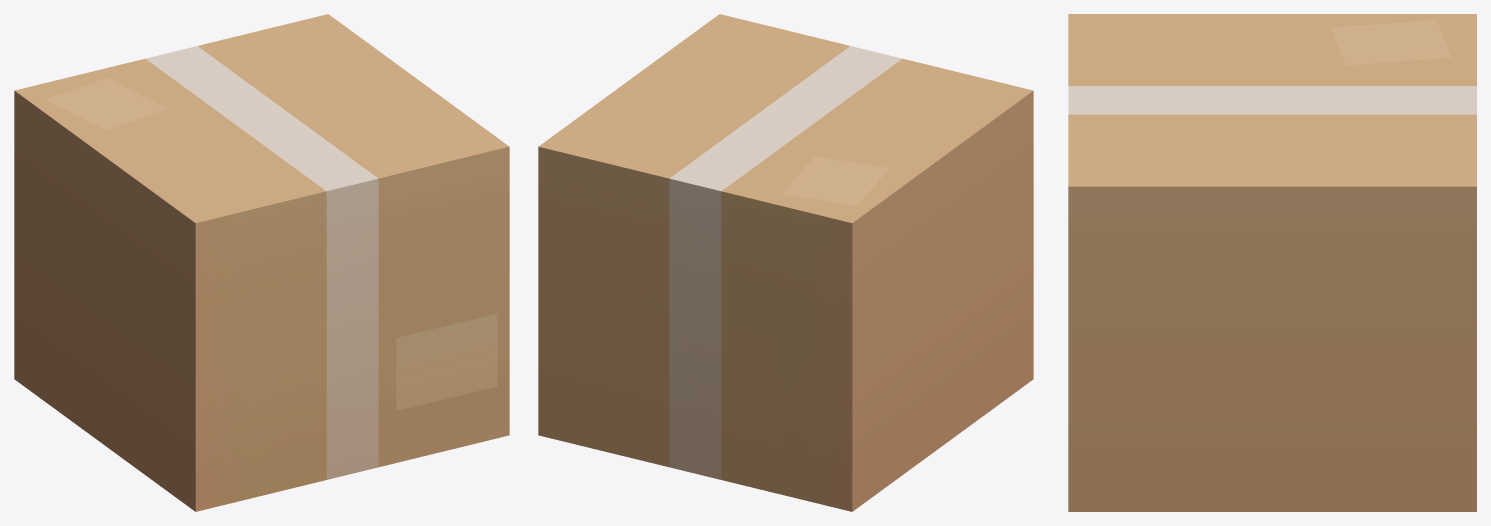
3 renders of one model, left to right at view 1: azimuth 30°, elevation 25°; view 2: azimuth 150°, elevation 25°; view 3: azimuth 270°, elevation 25°, orthographic. The views are drawn at different scales.
Visible parts, largest first — view 1: box_A; view 2: box_A; view 3: box_A.
Part boxes in pixels (x1=…): box_A: x1=14, y1=14, x2=509, y2=511; box_A: x1=538, y1=14, x2=1033, y2=511; box_A: x1=1068, y1=14, x2=1476, y2=511.
Bounding box in the file's own units: 0.2 × 0.1764 × 0.2031.
1 material, 1 textured.
